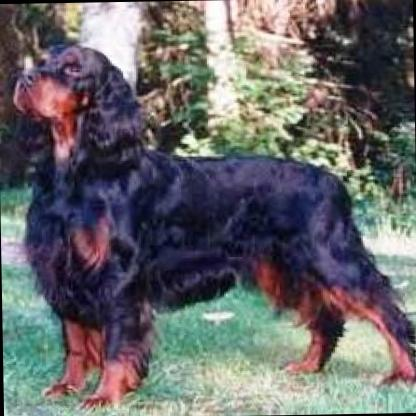Gordon_setter: (12, 35, 416, 408)
